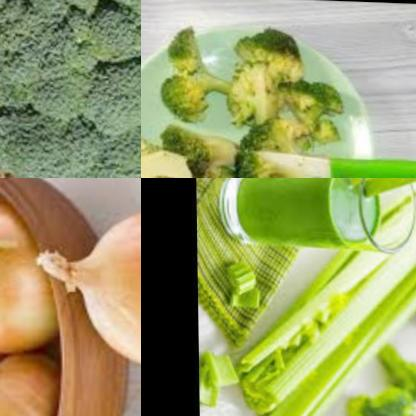broccoli: (0, 0, 141, 178), (150, 30, 249, 132), (141, 117, 243, 178), (274, 70, 350, 149), (240, 17, 293, 126), (371, 334, 416, 403), (346, 382, 416, 416)
celery: (219, 178, 416, 416), (198, 346, 252, 416), (224, 261, 271, 328)
onion: (41, 202, 141, 374), (0, 199, 46, 347), (0, 353, 63, 416)
